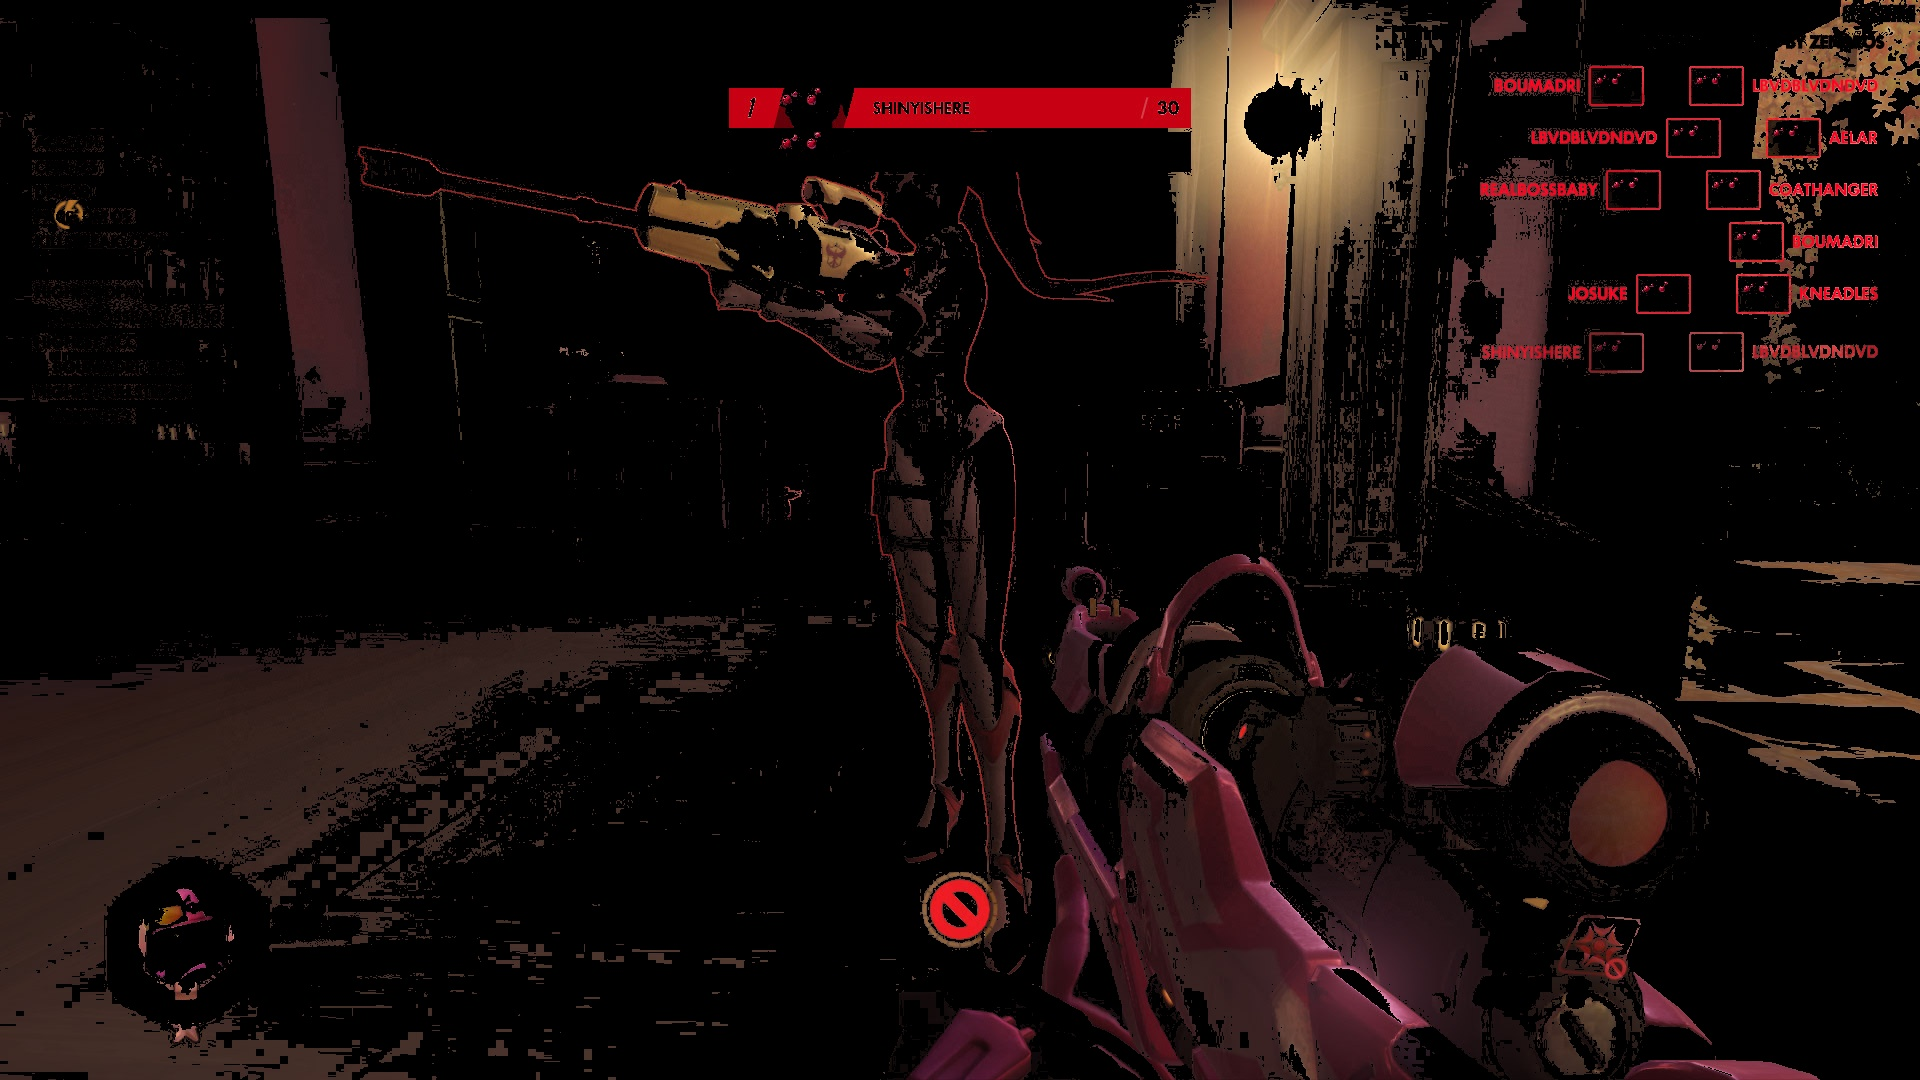widowmaker: (641, 146, 1062, 967)
